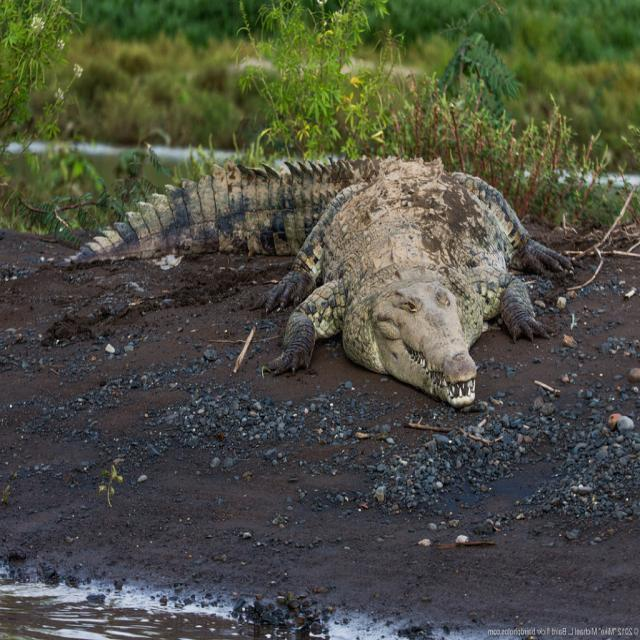crocodile: (46, 147, 590, 418)
